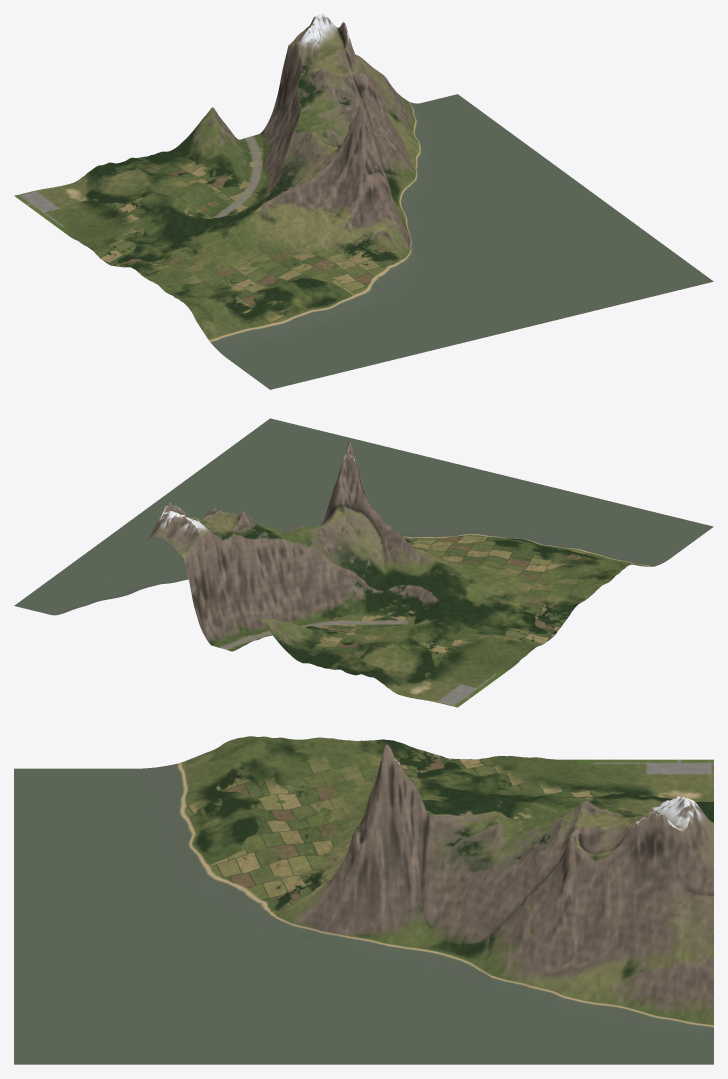
The picture shows the model from 3 angles, top to bottom: view 1: azimuth 30°, elevation 25°; view 2: azimuth 150°, elevation 25°; view 3: azimuth 270°, elevation 25°; orthographic projection. The views are drawn at different scales.
Visible parts, largest first — view 1: Terrain 11; view 2: Terrain 11; view 3: Terrain 11.
Part boxes in pixels (x1,y1,x2,y2): Terrain 11: [14, 14, 713, 389]; Terrain 11: [14, 418, 713, 707]; Terrain 11: [14, 736, 713, 1064].
Bounding box in the file's own units: 5000 × 1398 × 5000.
Materials: 1 (1 with a texture image).
